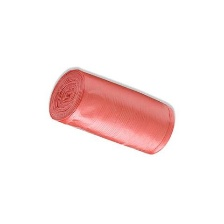plastic_bag: (44, 66, 177, 158)
